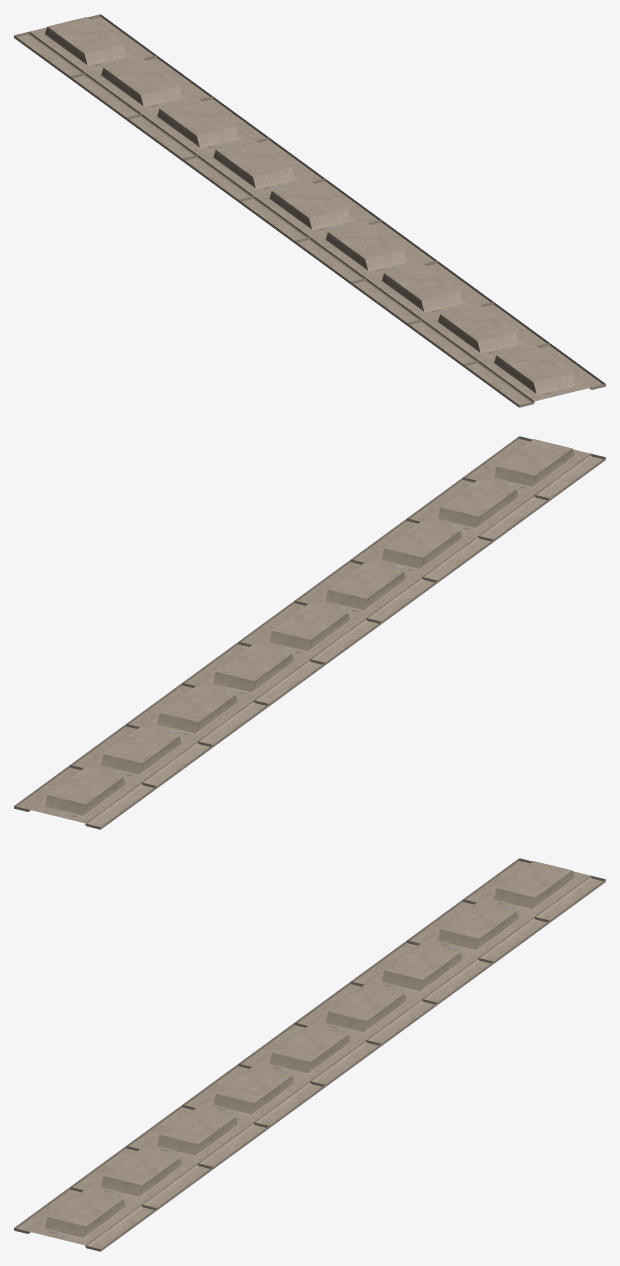
The model's file is ceiling_corridor.fbx.
3 views of the same model, one above another, from view 1: azimuth 30°, elevation 25°; view 2: azimuth 150°, elevation 25°; view 3: azimuth 330°, elevation 25° (orthographic).
Visible parts, largest first — view 1: Techo; view 2: Techo; view 3: Techo.
Boxes of the visible parts, x1,y1,x2,y2 form: Techo: (14,14,605,407); Techo: (14,436,605,829); Techo: (14,858,605,1251).
Bounding box in the file's own units: 833 × 115 × 8403.
Materials: 2 (1 with a texture image).
